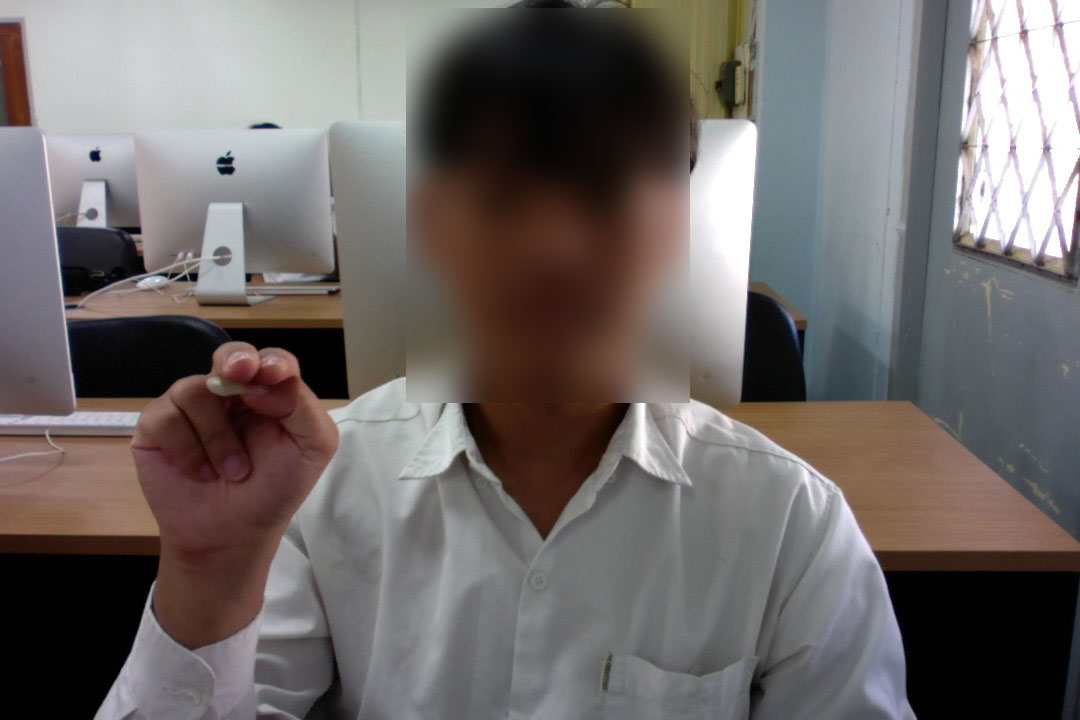nor: (123, 338, 353, 575)
